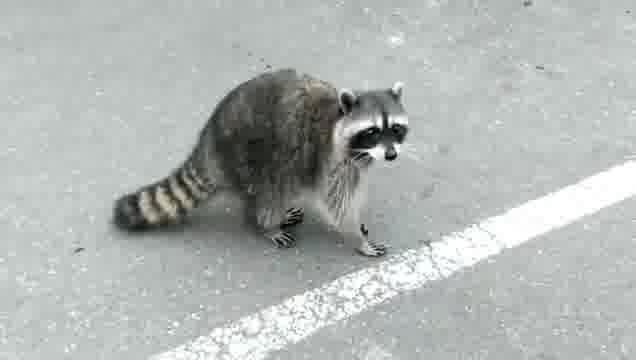raccoon: (110, 68, 412, 259)
